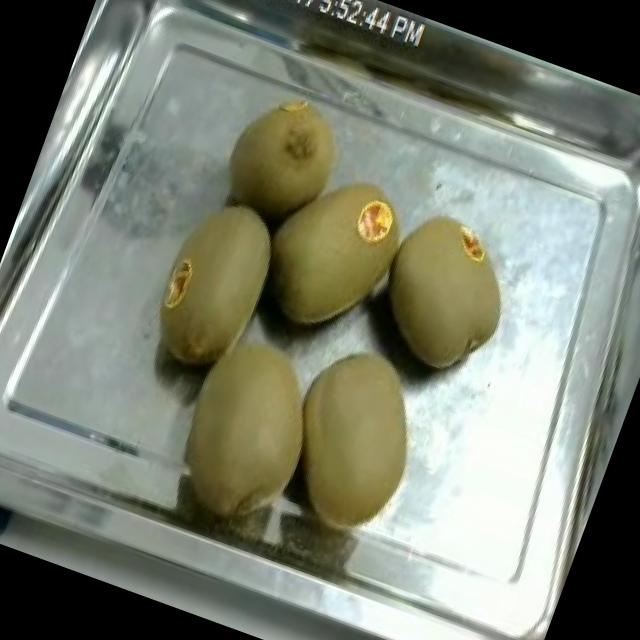Fruit: (146, 316, 348, 548), (258, 324, 454, 548), (240, 152, 420, 356), (128, 179, 298, 394), (358, 194, 538, 397), (204, 74, 370, 248)
